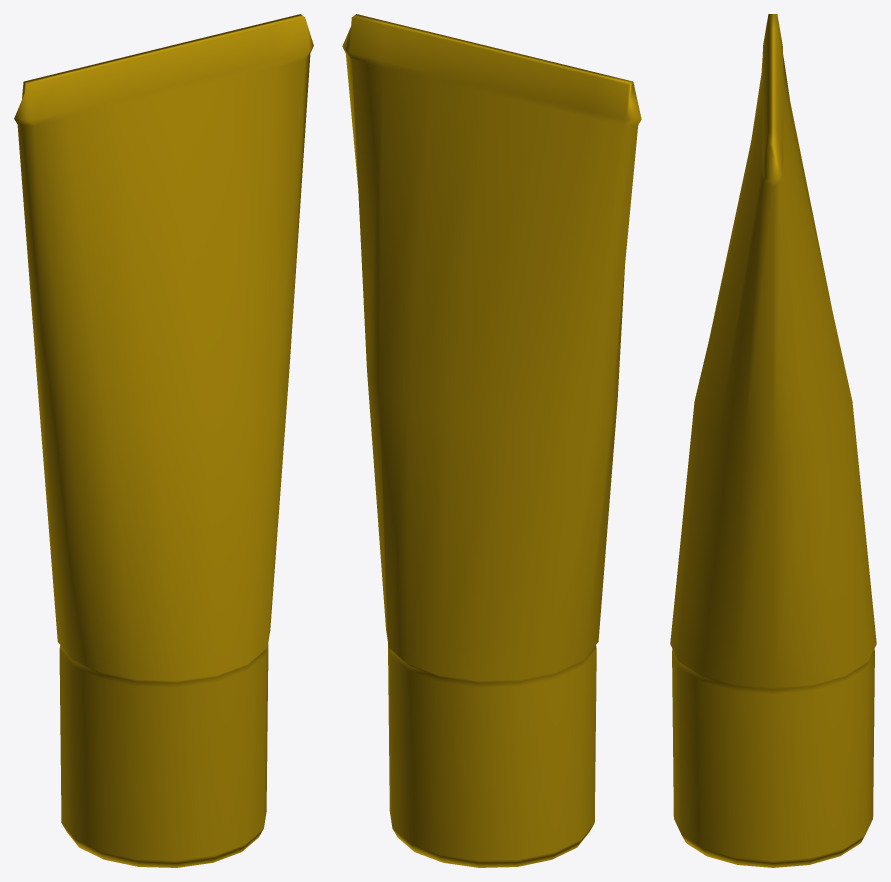
Rendered from Flacon_03.fbx.
3 views of the same model, side by side, from view 1: azimuth 30°, elevation 25°; view 2: azimuth 150°, elevation 25°; view 3: azimuth 270°, elevation 25° (orthographic). The views are drawn at different scales.
Parts seen in each view (by area): view 1: Flacon_03; view 2: Flacon_03; view 3: Flacon_03.
Boxes of the visible parts, left/top/right/bottom form: Flacon_03: left=14, top=14, right=313, bottom=867; Flacon_03: left=342, top=14, right=641, bottom=867; Flacon_03: left=670, top=14, right=876, bottom=867.
Bounding box in the file's own units: 46.7 × 116 × 28.93.
